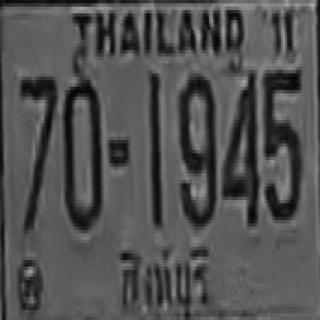N00: (63, 77, 100, 227)
N01: (148, 70, 161, 223)
N04: (222, 68, 257, 222)
N05: (263, 68, 300, 218)
N07: (18, 73, 56, 230)
N09: (178, 70, 216, 224)
P62: (115, 237, 214, 318)
